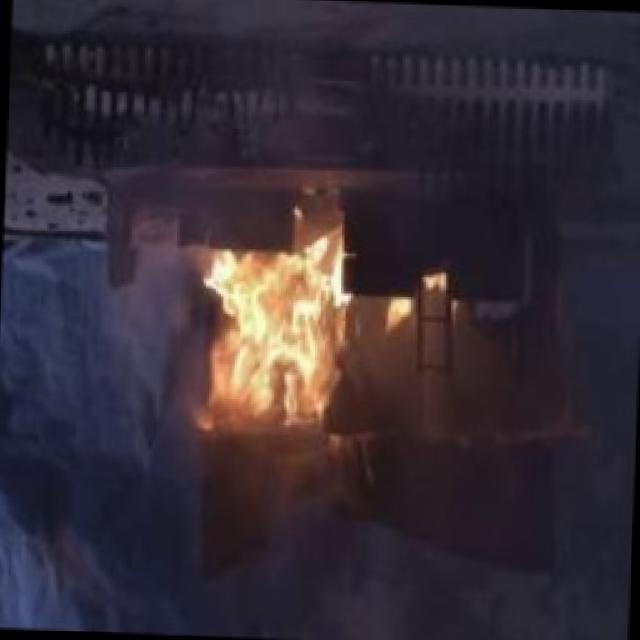fire: (204, 235, 388, 462)
